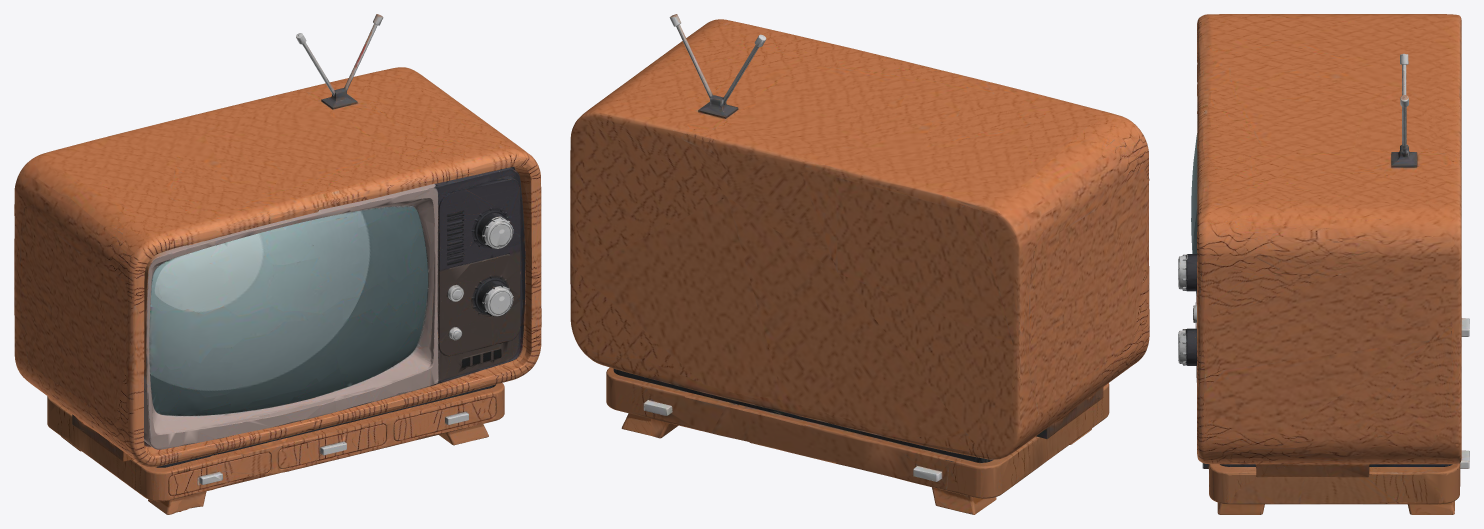
3 views of the same model, side by side, from view 1: azimuth 30°, elevation 25°; view 2: azimuth 150°, elevation 25°; view 3: azimuth 270°, elevation 25° (orthographic). The views are drawn at different scales.
Bounding box in the file's own units: 1.9 × 1.62 × 1.06.
1 material, 1 textured.
